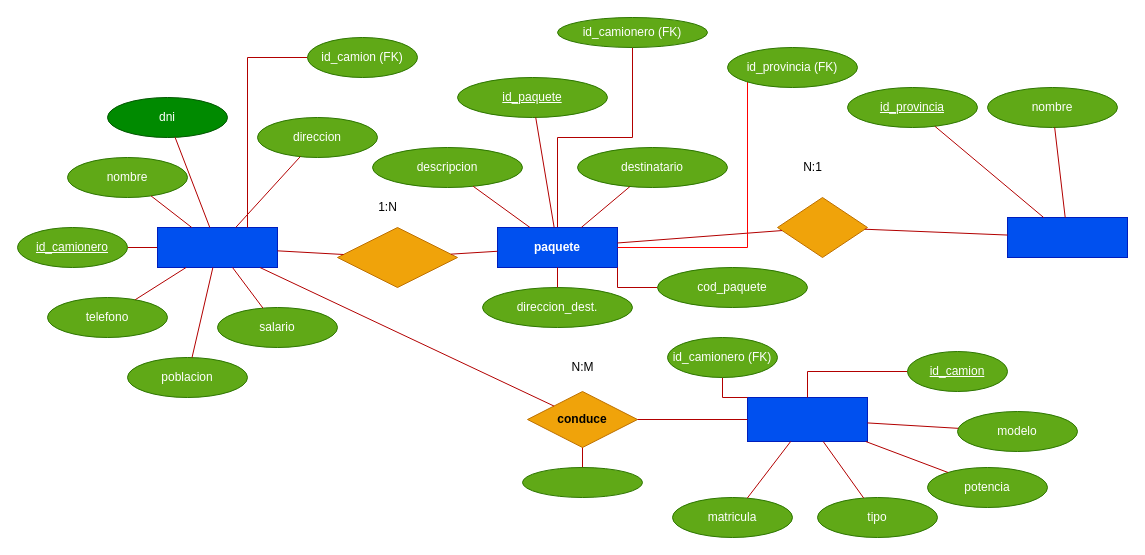
Some shapes in this 1145 by 555 pixel diagram are drawn without their labels. Each missing label, with the centre of its shape:
camion: the point at 807,419
camionero: the point at 217,247
distribuye: the point at 397,257
fecha: the point at 582,482
llega: the point at 822,227
provincia: the point at 1067,237
